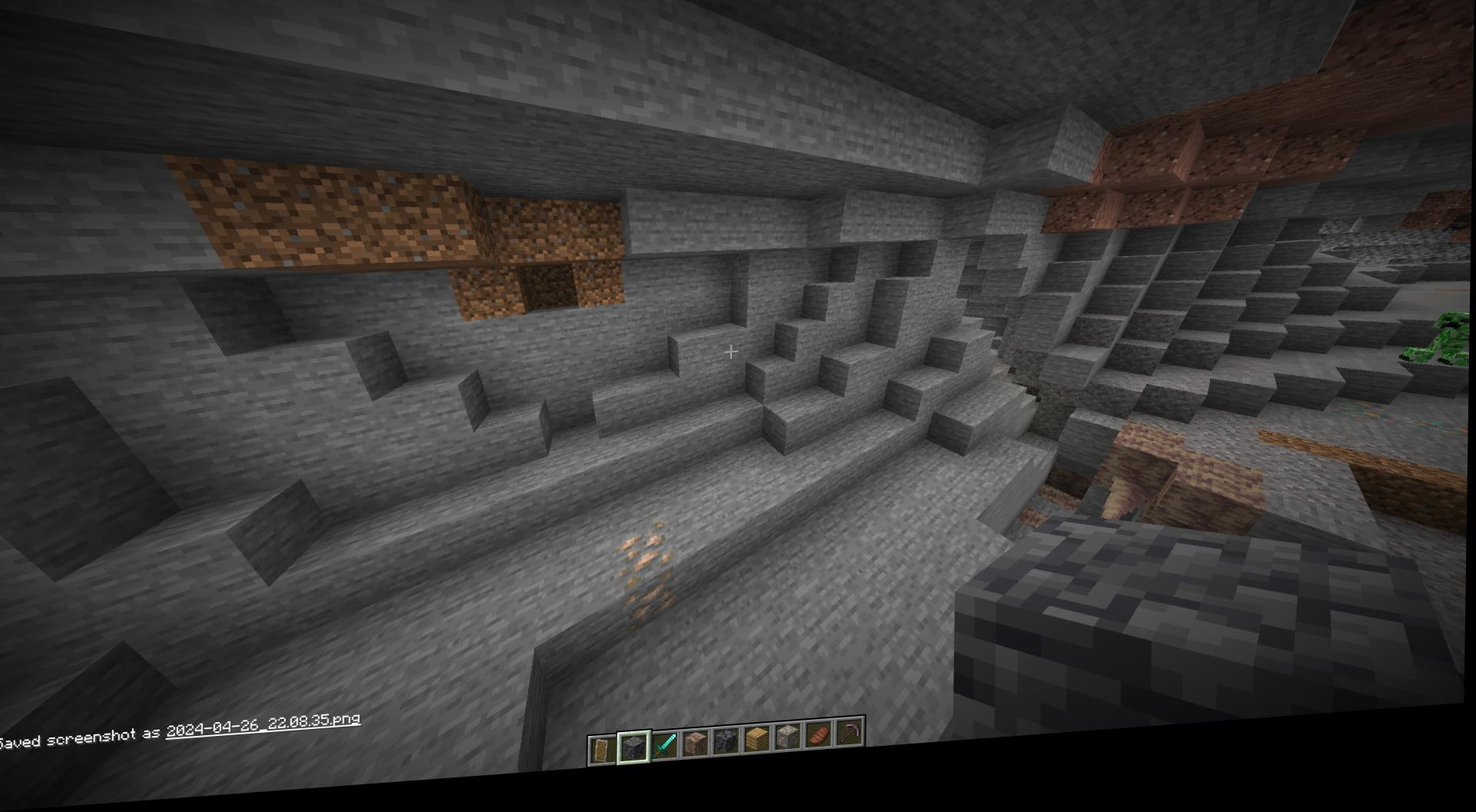iron ore: (616, 534, 673, 593), (630, 584, 681, 638)
